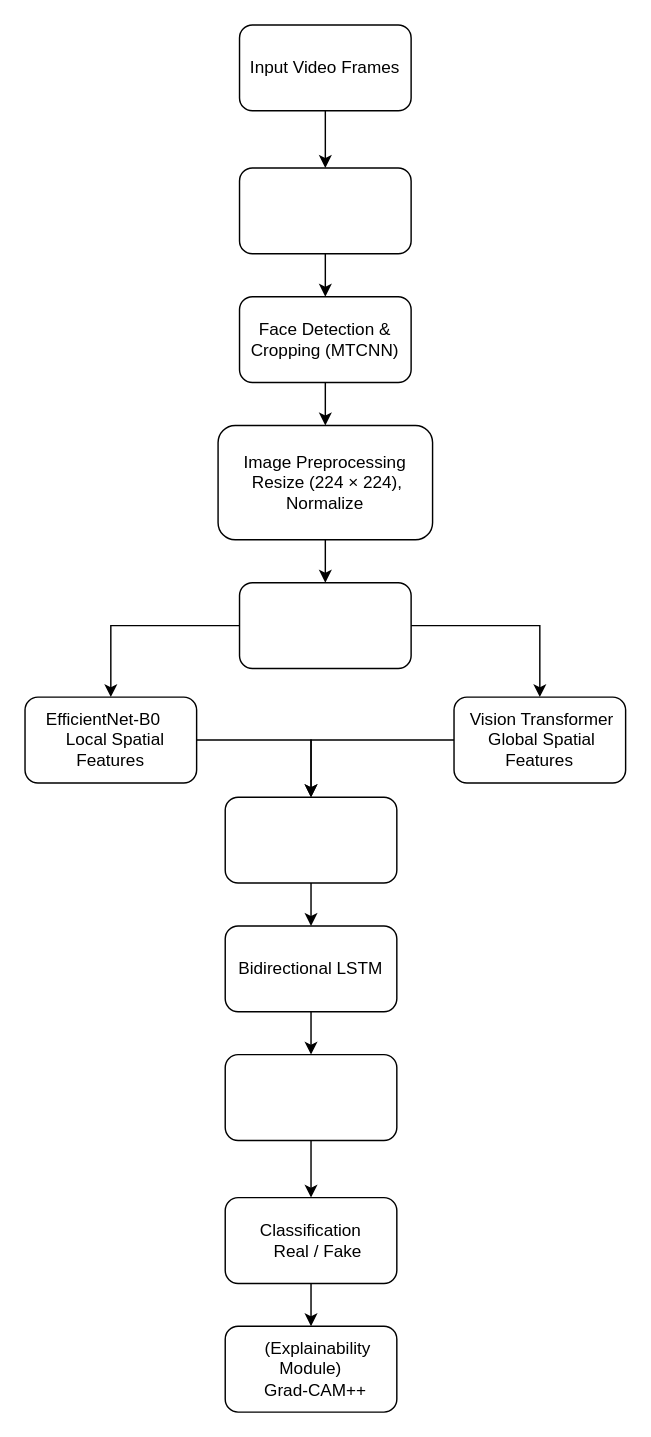
Image size: 651x1437. Some labels were removed from this diagram. The centre of each missing label's shape, as x and y in pixels:
Feature Concatenation: [310,839]
Feature Extraction: [324,625]
Frame Extraction from Video: [324,210]
Fully Connected: [310,1096]
